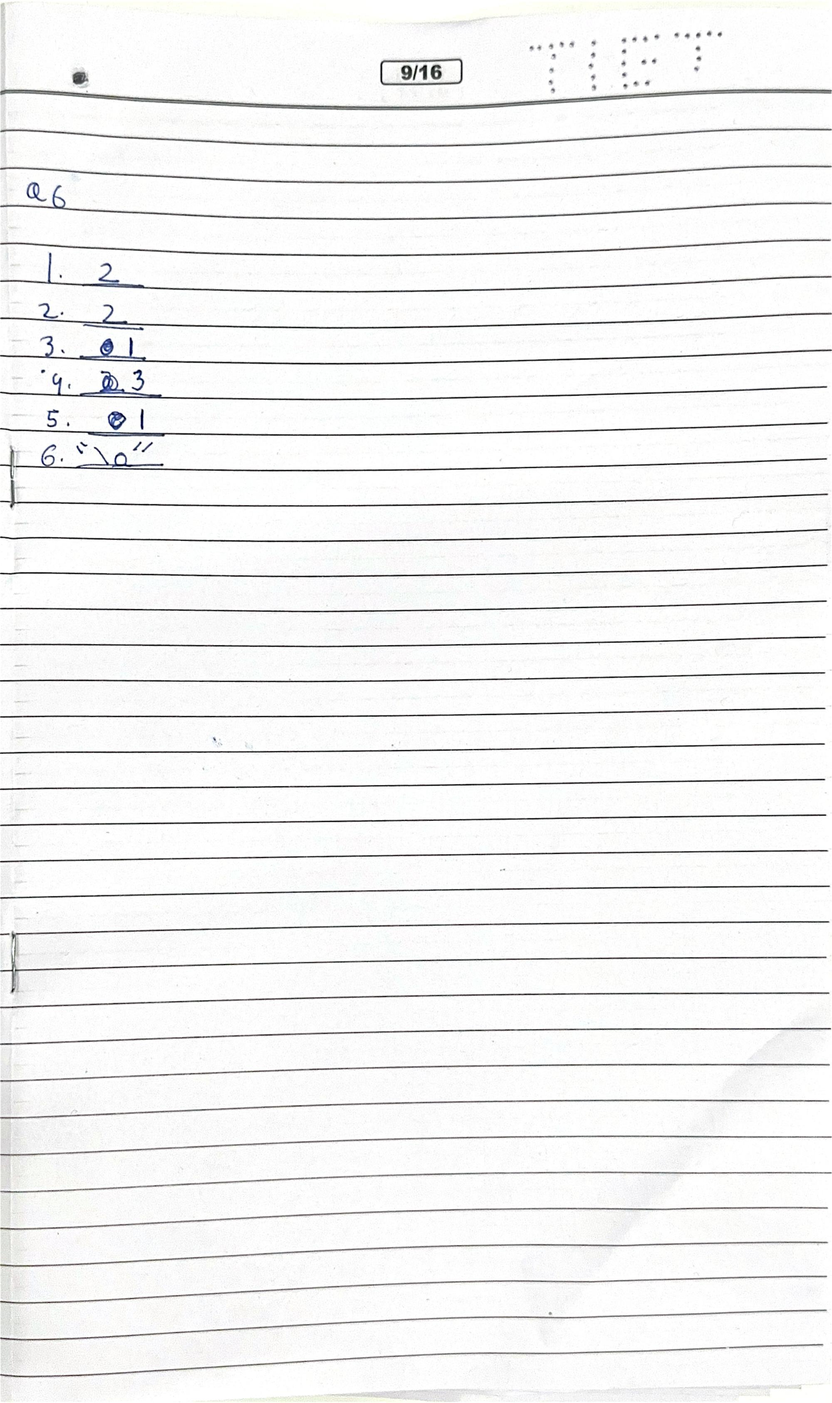cuttings: (98, 370, 125, 394), (107, 411, 127, 431), (99, 338, 114, 356)
